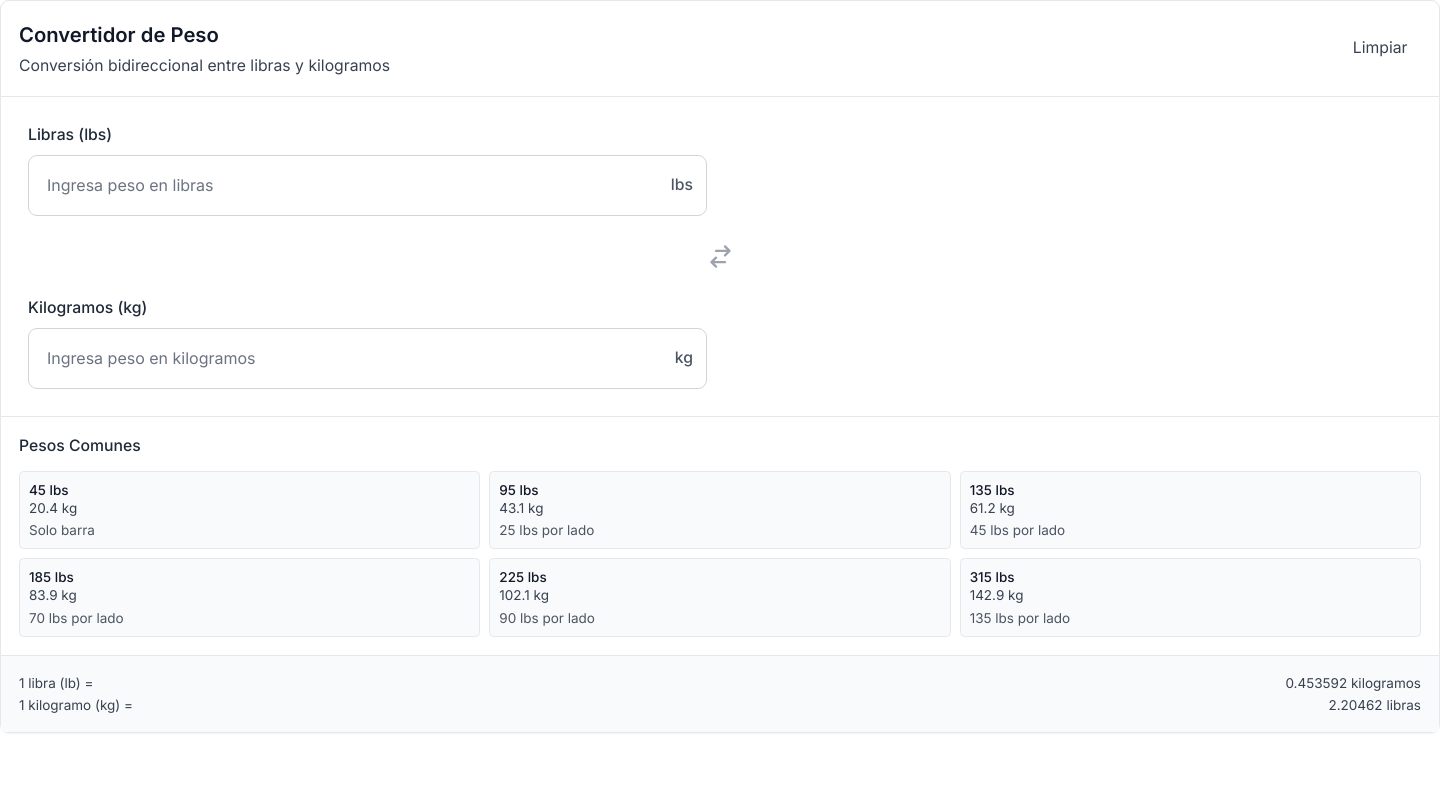
Scenario: WeightConverter › converts lbs to kg when lbs input changes
# Enter 100 lbs
Type "100" into the number field labelled "Libras (lbs)" at (367, 185), box [28,155,706,216]
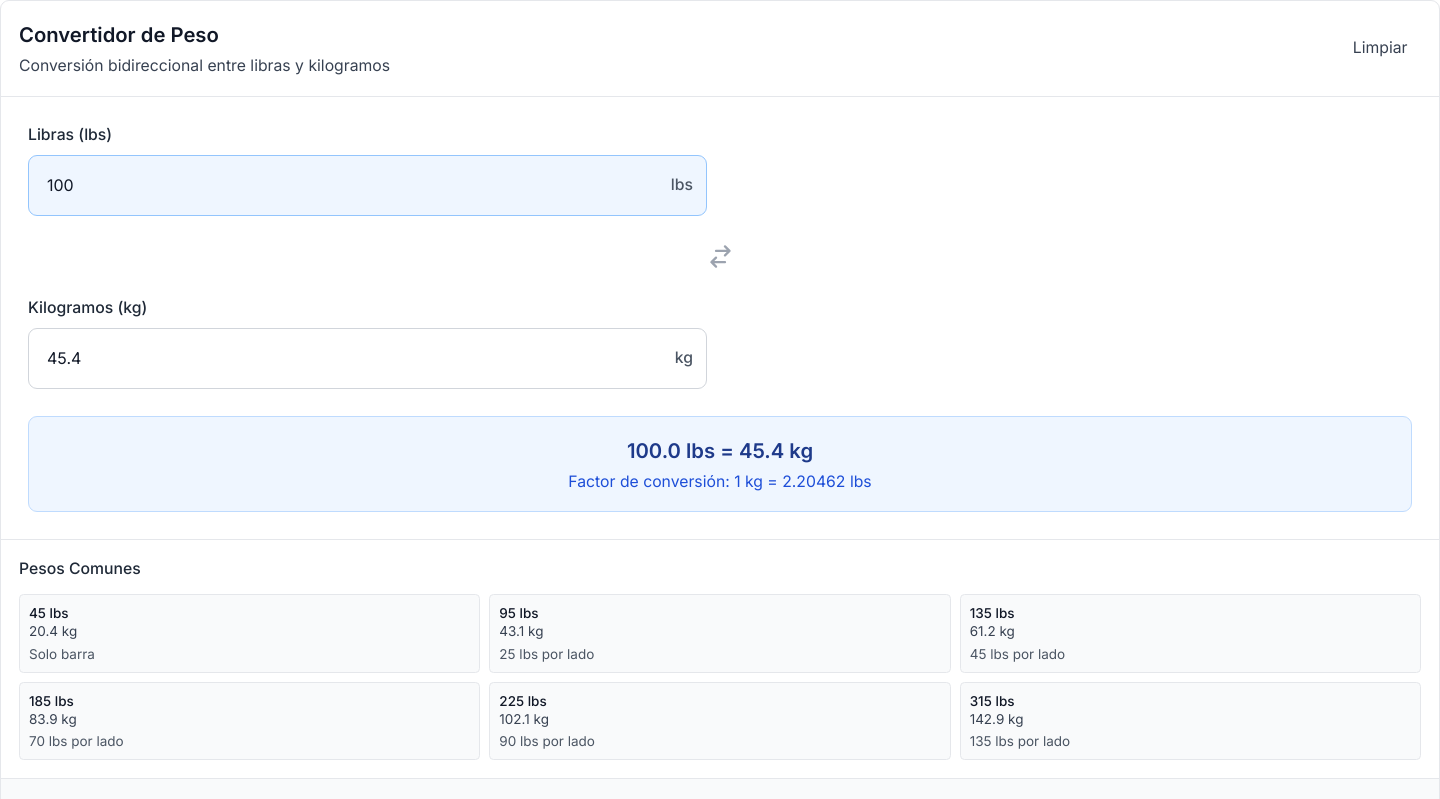
Check: the number field labelled "Kilogramos (kg)" holds "45.4", box [28,328,706,388]
